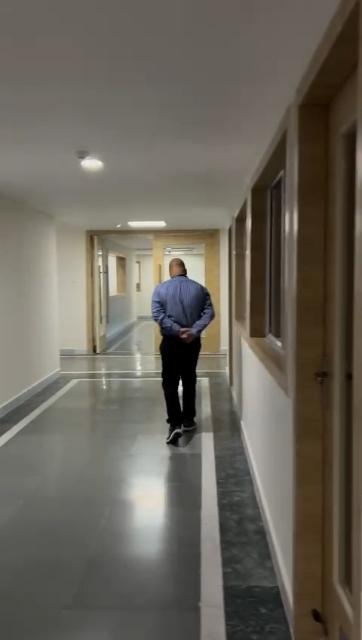door: (284, 105, 362, 640)
floor: (0, 323, 290, 640)
moving-obj: (121, 259, 231, 451)
wall: (0, 201, 86, 365)
